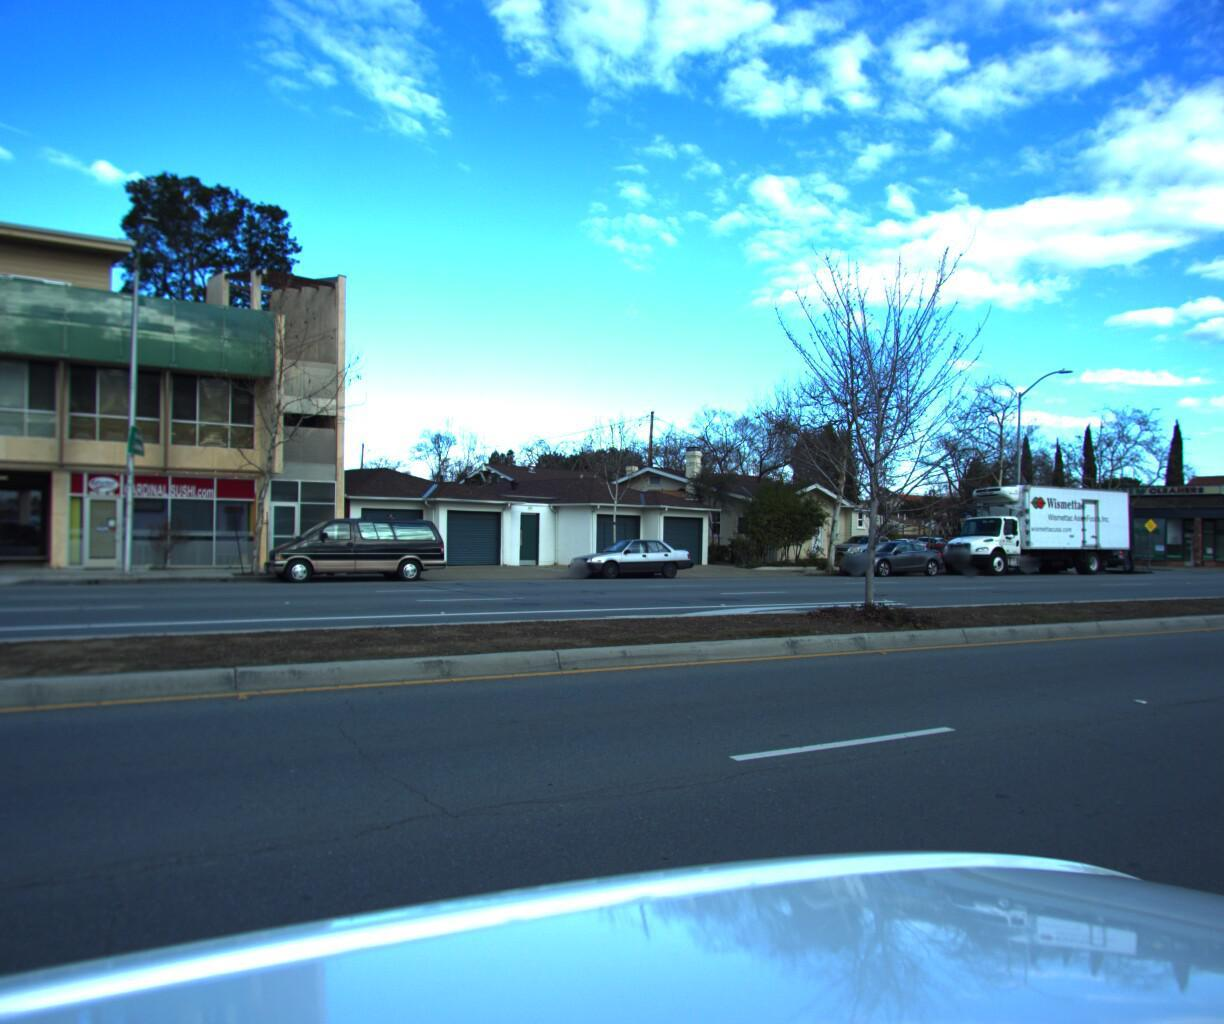car: (255, 510, 451, 587), (555, 533, 696, 580), (821, 533, 950, 575), (816, 528, 898, 561), (1035, 535, 1126, 563), (919, 528, 985, 553)
truck: (915, 477, 1138, 574)
